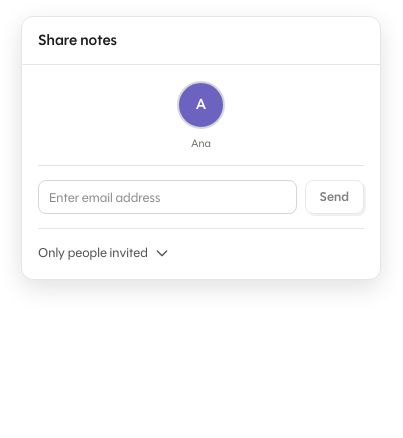
Test: ShareMeetingPopover › enables public for a host when gating is host_only
Click the button "Only people invited" at (104, 253), box [38,243,170,262]
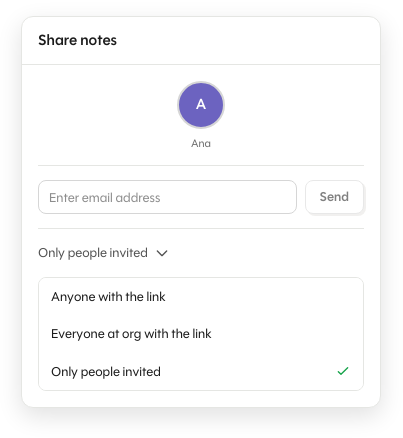
Expected: the button "Anyone with the link" is enabled, [39,278,363,315]
